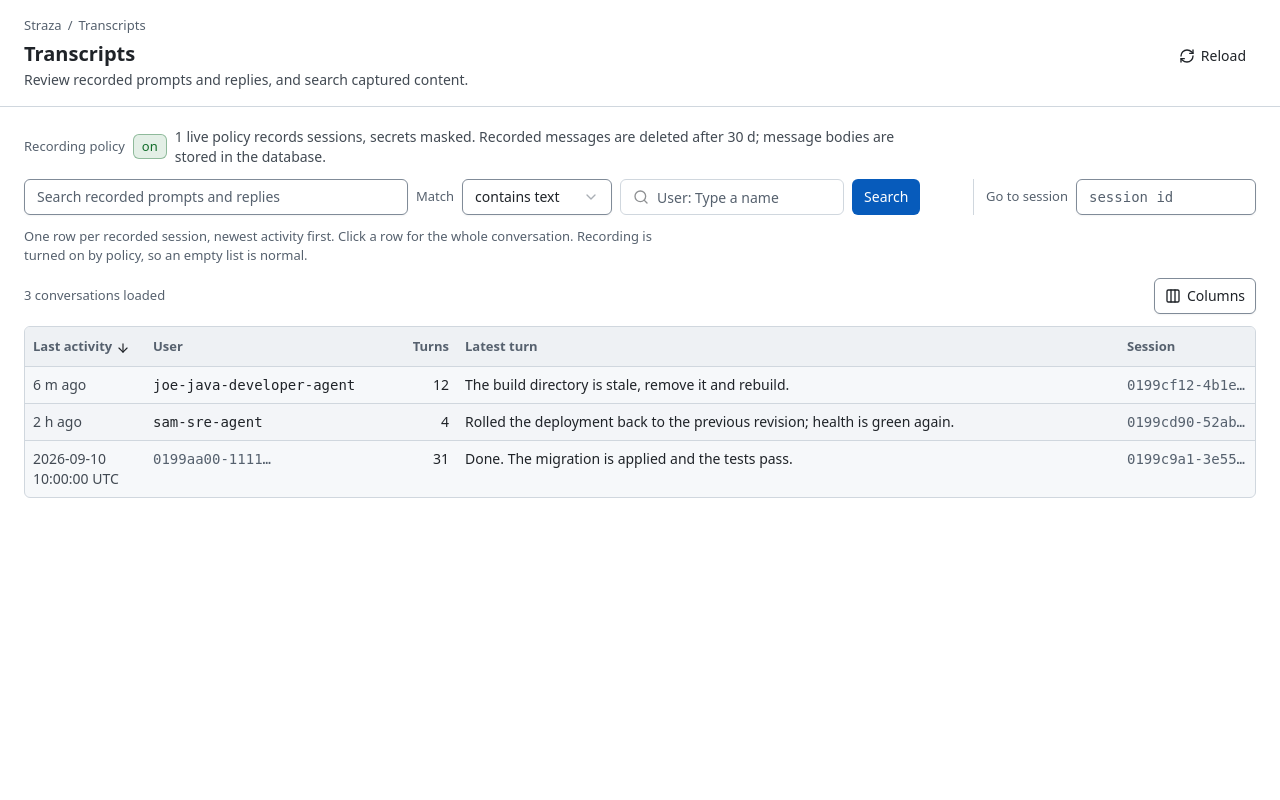
it: the transcripts screen › returns to the conversations and clears the box
Type "registry" into the field named "Search transcripts". click: (216, 196)
box: [24,178,408,214]
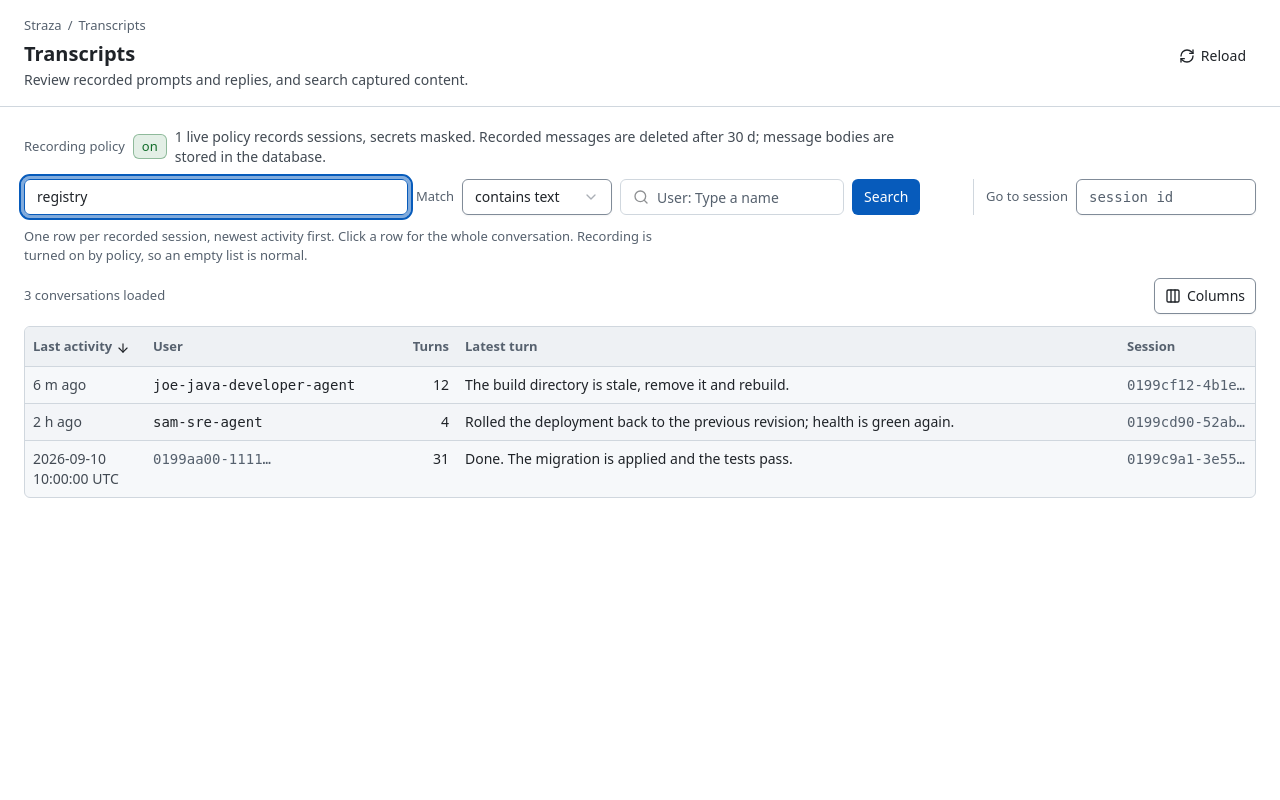
Click the button "Search". click: (886, 196)
box: [852,178,920,214]
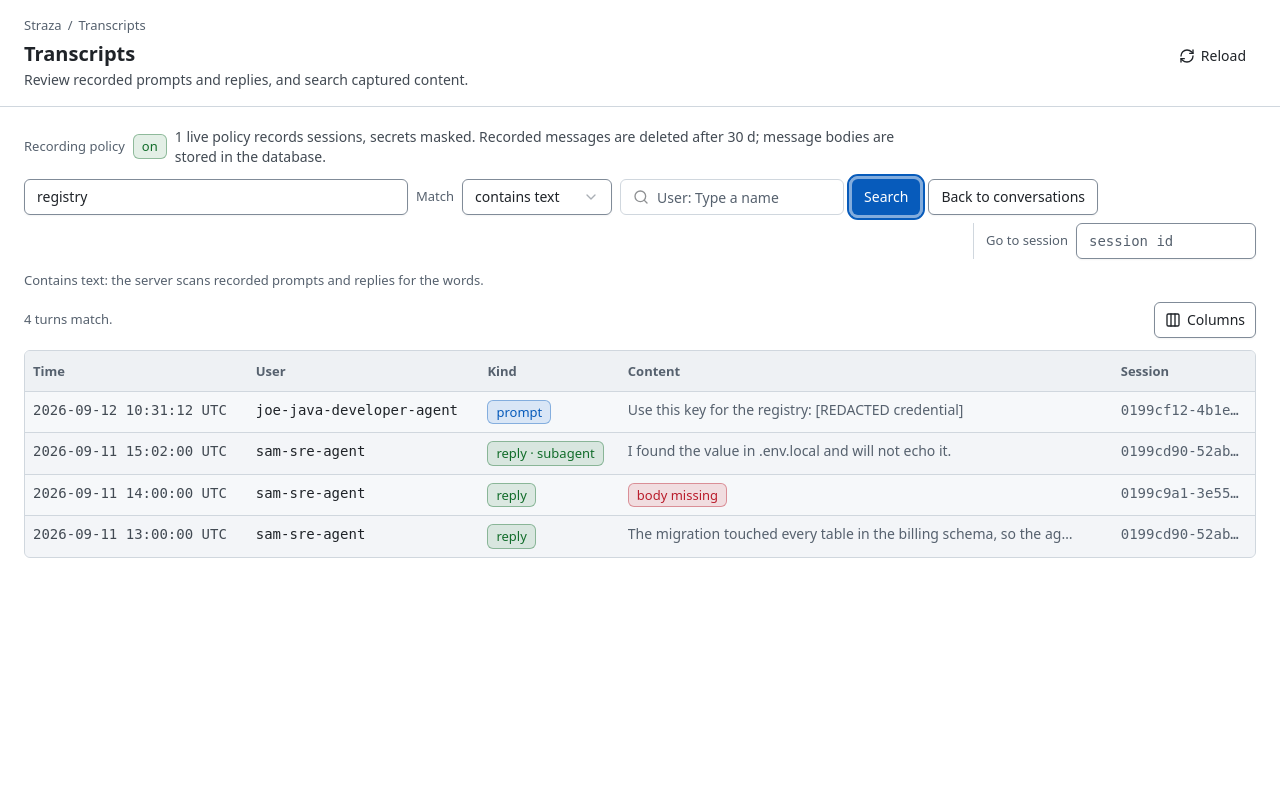
Expected: the text "Use this key for the registry: [REDACTED credential]" is shown, [628,400,964,418]
Click the button "Back to conversations". click: (1013, 196)
box: [928,178,1098,214]
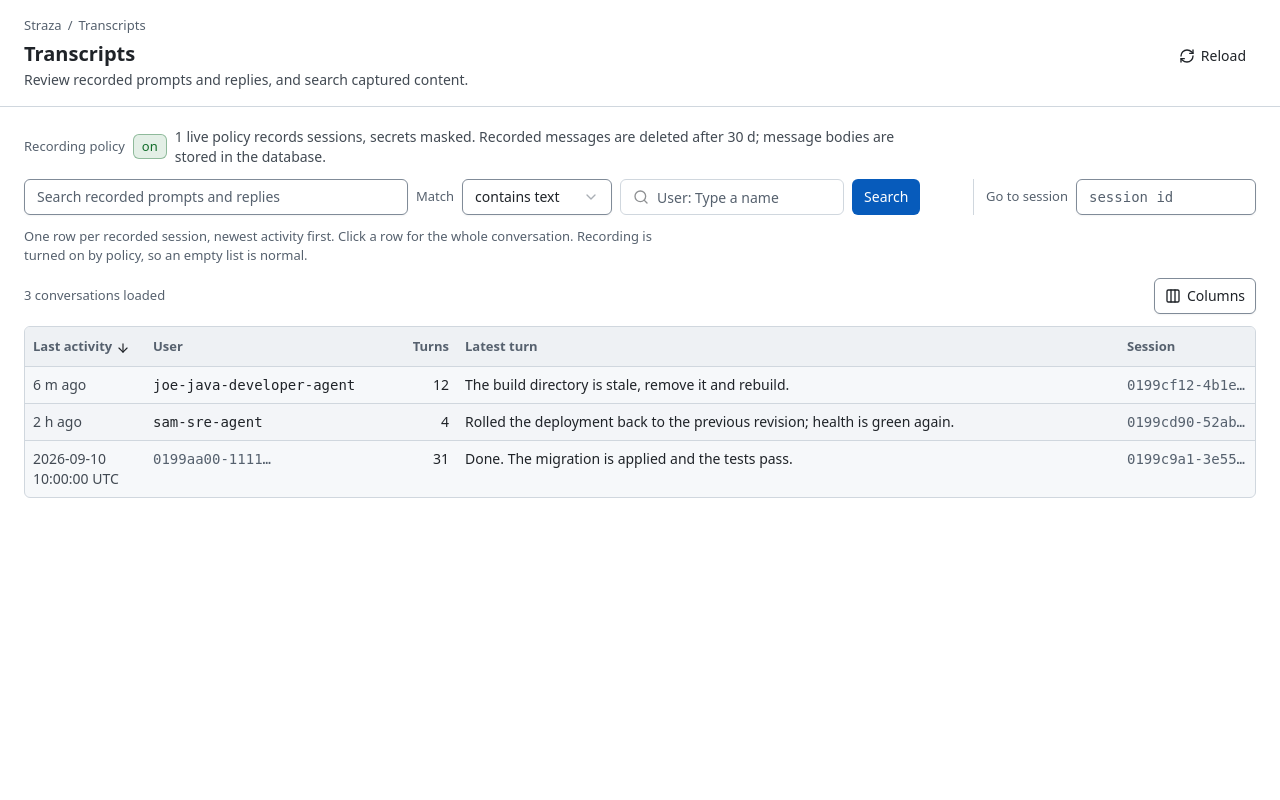
Expected: the field named "Search transcripts" is empty, [24,178,408,214]
Expected: the text "3 conversations loaded" is shown, [24,286,165,305]
Expected: the button "Back to conversations" is gone
